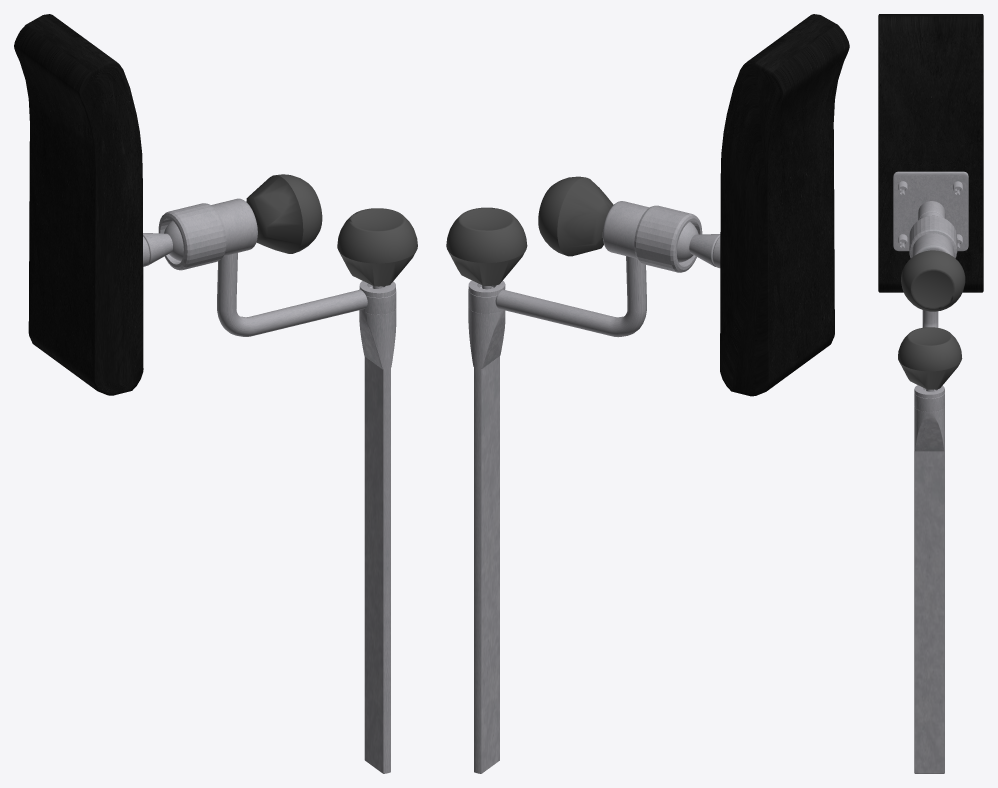
File: light_body_support_R.fbx
3 views of the same model, side by side, from view 1: azimuth 30°, elevation 25°; view 2: azimuth 150°, elevation 25°; view 3: azimuth 270°, elevation 25° (orthographic). The views are drawn at different scales.
Parts seen in each view (by area): view 1: pad_R, mounting_rod_R, knob_2_R, knob_1_R, curved_pipe_R, bearing_R, connector_R, bullet_hinge_R, cap_R; view 2: pad_R, mounting_rod_R, knob_2_R, knob_1_R, curved_pipe_R, bearing_R, connector_R, bullet_hinge_R, cap_R; view 3: pad_R, mounting_rod_R, plate_R, knob_1_R, knob_2_R, bearing_R, cap_R, connector_R, bullet_hinge_R, curved_pipe_R.
Boxes of the visible parts, x1,y1,x2,y2 form: pad_R: [14, 14, 143, 395]; mounting_rod_R: [359, 308, 396, 773]; knob_2_R: [337, 208, 417, 286]; knob_1_R: [246, 174, 322, 253]; curved_pipe_R: [217, 253, 367, 336]; bearing_R: [158, 203, 226, 270]; connector_R: [211, 198, 257, 255]; bullet_hinge_R: [143, 220, 183, 266]; cap_R: [359, 281, 396, 314]; pad_R: [720, 14, 849, 396]; mounting_rod_R: [468, 307, 505, 773]; knob_2_R: [446, 207, 527, 285]; knob_1_R: [538, 176, 613, 256]; curved_pipe_R: [495, 256, 646, 337]; bearing_R: [634, 205, 702, 272]; connector_R: [602, 201, 649, 258]; bullet_hinge_R: [677, 222, 720, 268]; cap_R: [468, 280, 505, 313]; pad_R: [878, 14, 983, 292]; mounting_rod_R: [914, 407, 944, 773]; plate_R: [893, 171, 968, 251]; knob_1_R: [901, 250, 965, 311]; knob_2_R: [898, 327, 962, 389]; bearing_R: [909, 215, 957, 258]; cap_R: [914, 385, 944, 411]; connector_R: [912, 233, 954, 256]; bullet_hinge_R: [918, 201, 945, 220]; curved_pipe_R: [922, 310, 938, 327].
Bounding box in the file's own units: 22.34 × 46.79 × 7.
3 materials, 2 textured.
